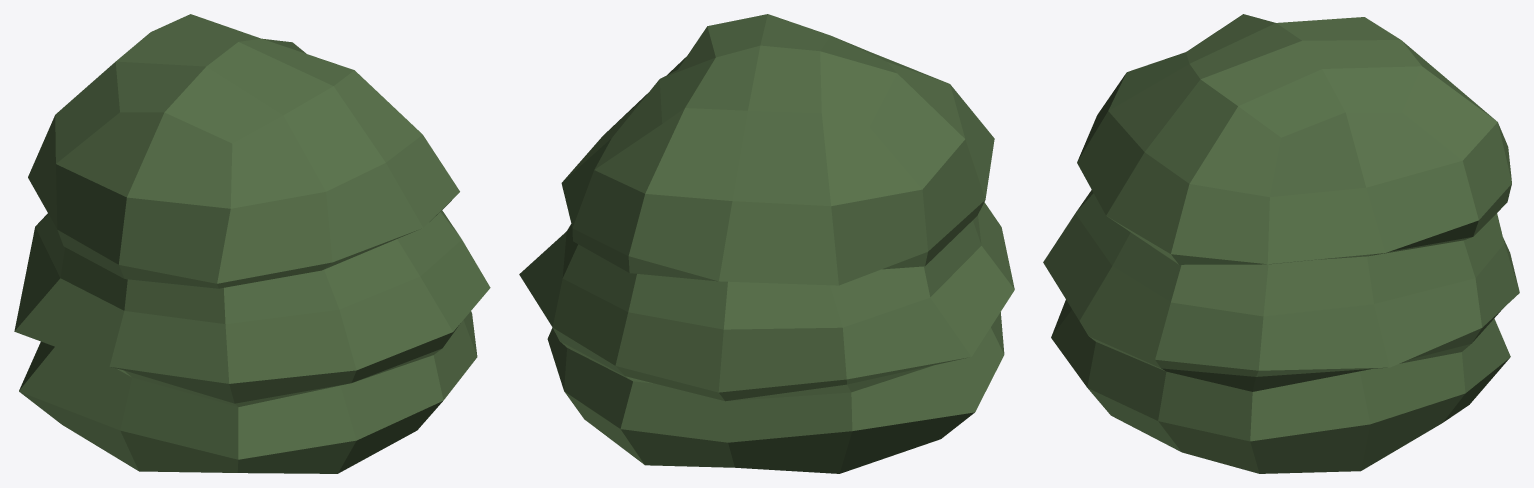
The model's file is Blends_Bush_2.glb.
3 renders of one model, left to right at view 1: azimuth 30°, elevation 25°; view 2: azimuth 150°, elevation 25°; view 3: azimuth 270°, elevation 25°, orthographic. The views are drawn at different scales.
Parts seen in each view (by area): view 1: Bush_2; view 2: Bush_2; view 3: Bush_2.
Part boxes in pixels (bbox=[...]): Bush_2: bbox=[14, 14, 490, 473]; Bush_2: bbox=[519, 14, 1014, 473]; Bush_2: bbox=[1043, 14, 1519, 473].
Bounding box in the file's own units: 1.35 × 1.11 × 1.33.
